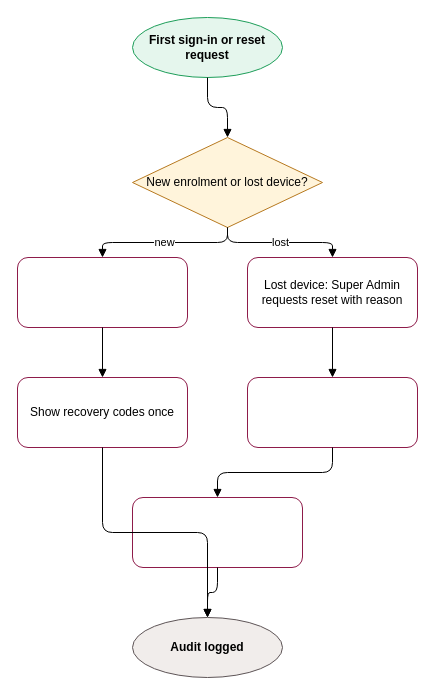
This 435x695 diagram has some shape labels left out. The centre of each missing label's shape, as x and y in pixels:
Scan authenticator QR or register hardware key; confirm code: pixel 102 292
Second admin approves; MFA cleared; sessions revoked: pixel 332 412
Staff re-enrols at next sign-in: pixel 217 532
